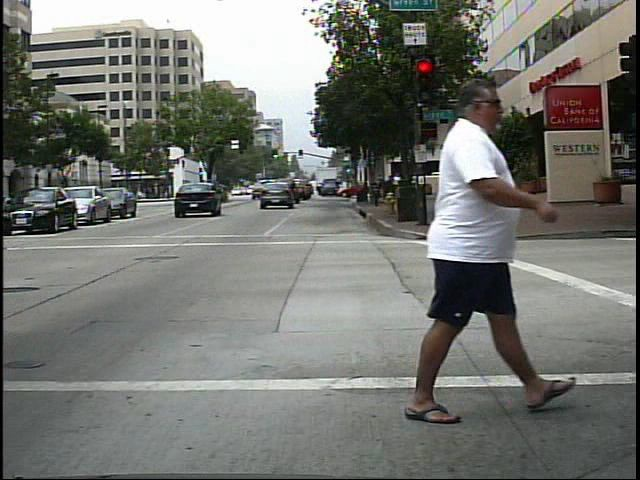person: (384, 72, 548, 424)
